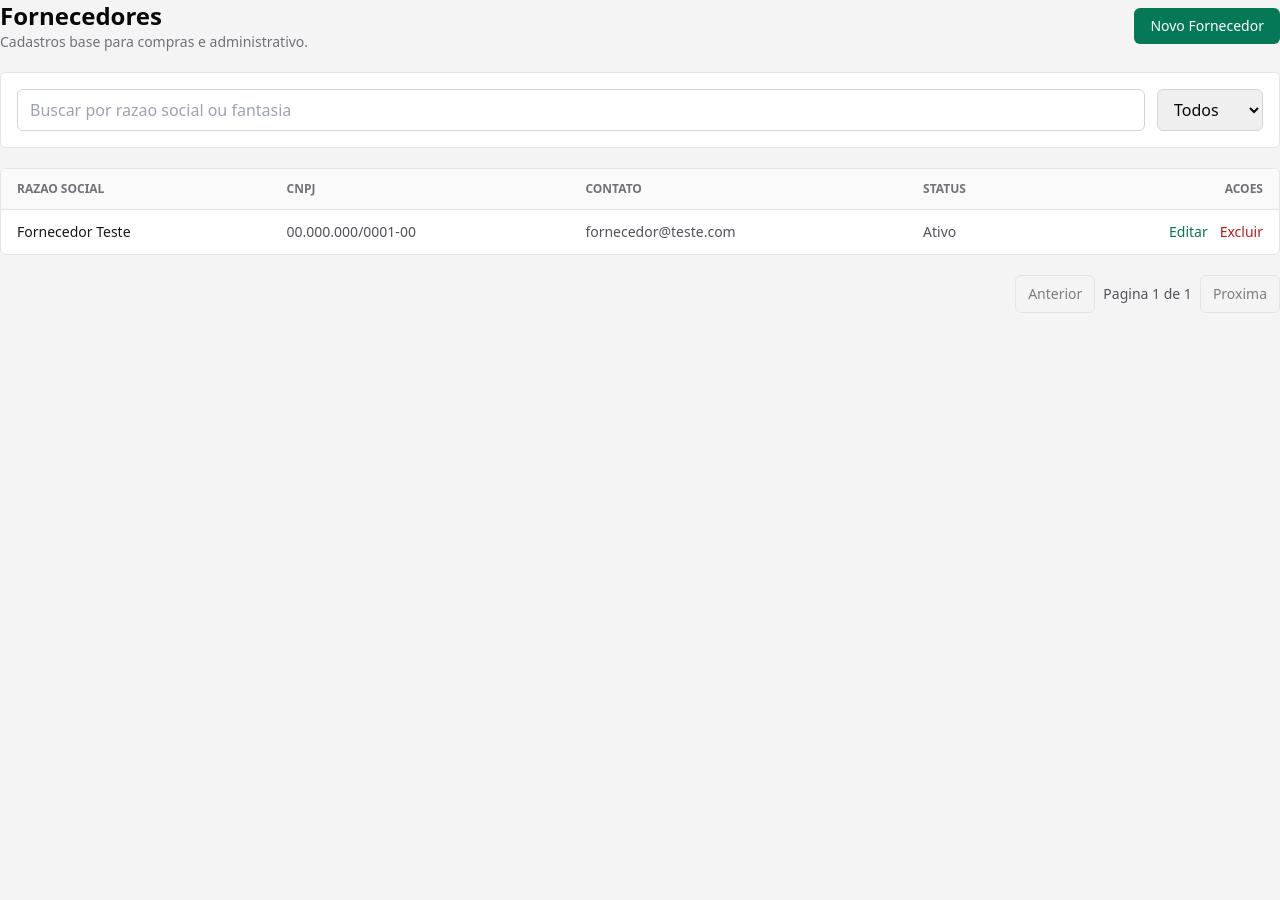
FornecedoresPage › abre modal ao clicar em Novo Fornecedor
The image size is (1280, 900).
Step 1. Click the button "Novo Fornecedor" → (1207, 26), box [1134,8,1279,44]
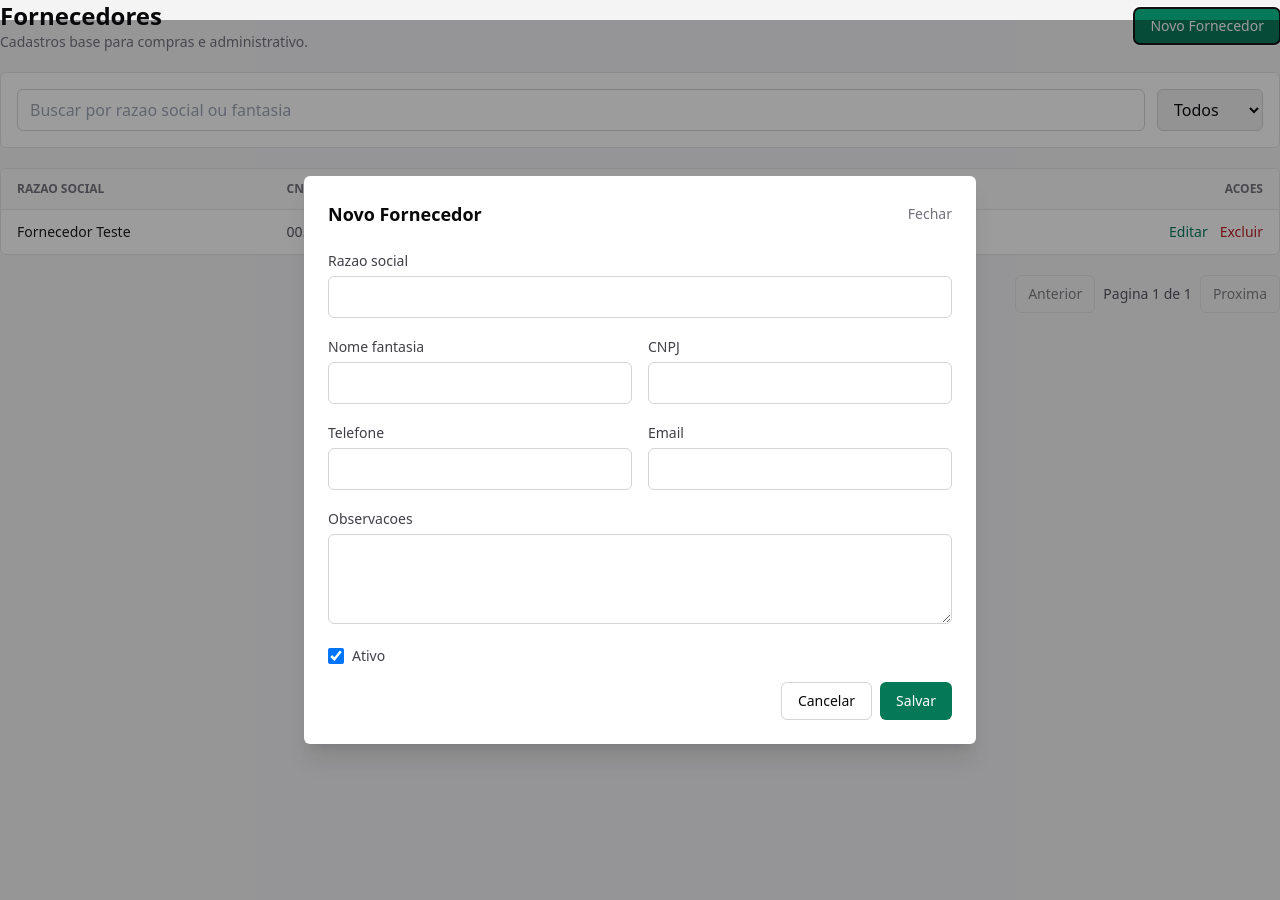
Result: the heading "Novo Fornecedor" is shown at [328,200,482,228]
